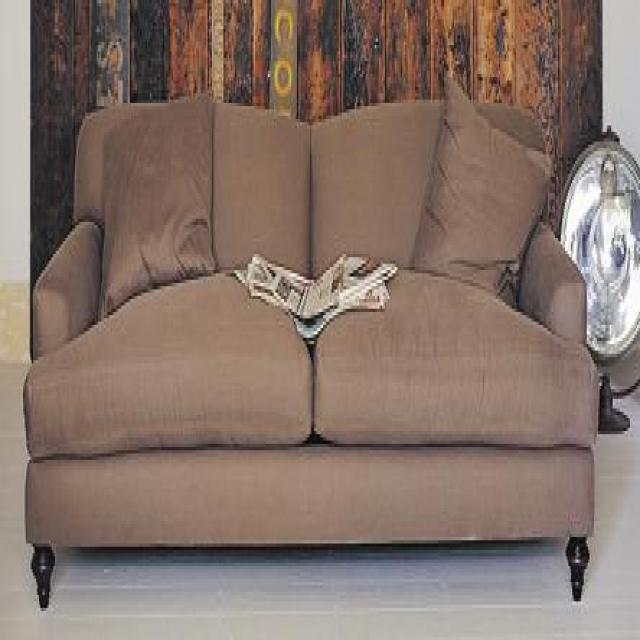sofa: (20, 89, 602, 611)
